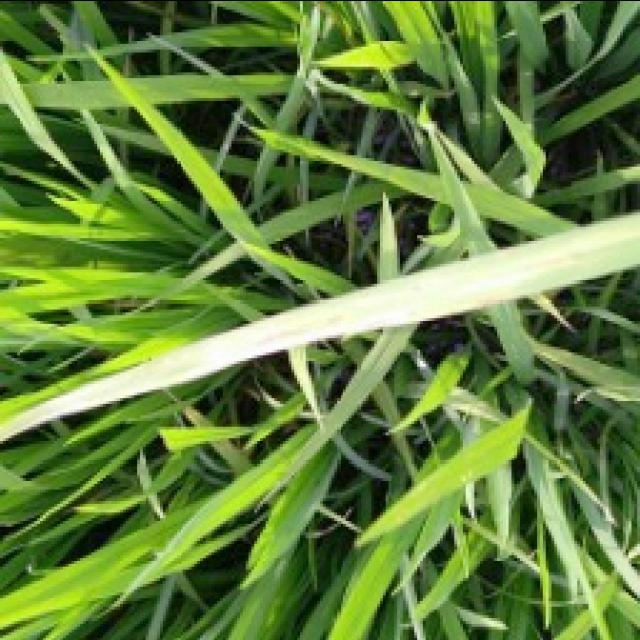Unhealthy: (0, 258, 520, 439)
